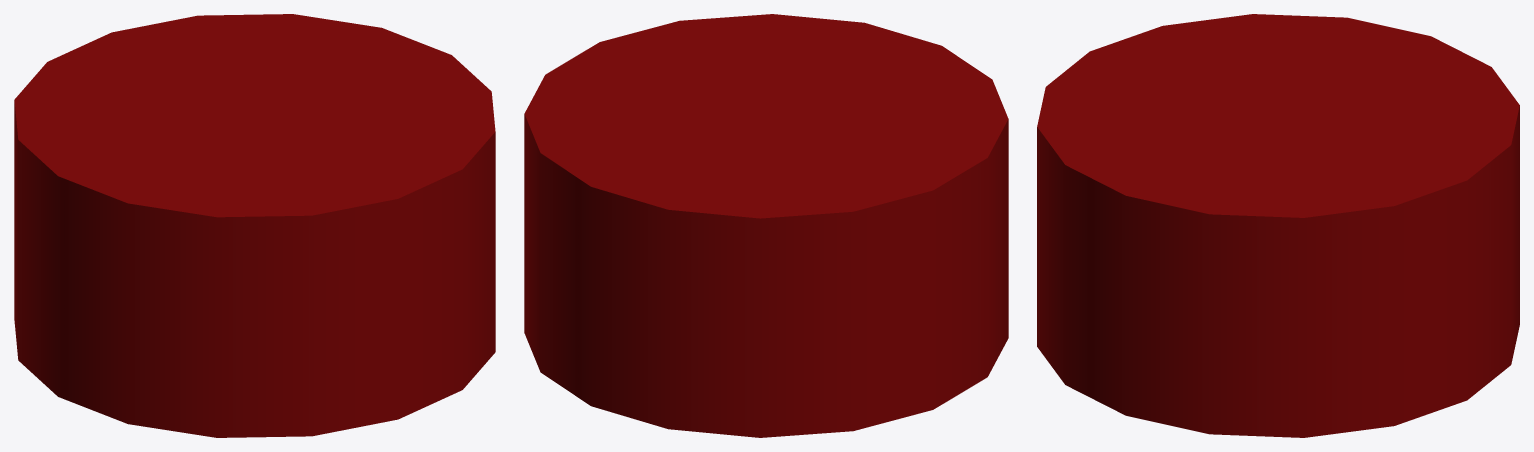
The model's file is original-1.obj.
3 views of the same model, side by side, from view 1: azimuth 30°, elevation 25°; view 2: azimuth 150°, elevation 25°; view 3: azimuth 270°, elevation 25° (orthographic).
Visible parts, largest first — view 1: cylinder/ID4#ID4; view 2: cylinder/ID4#ID4; view 3: cylinder/ID4#ID4.
Part boxes in pixels (bbox=[...]): cylinder/ID4#ID4: bbox=[14, 14, 495, 437]; cylinder/ID4#ID4: bbox=[524, 14, 1008, 437]; cylinder/ID4#ID4: bbox=[1037, 14, 1519, 437].
Bounding box in the file's own units: 0.0931 × 0.0468 × 0.0931.
